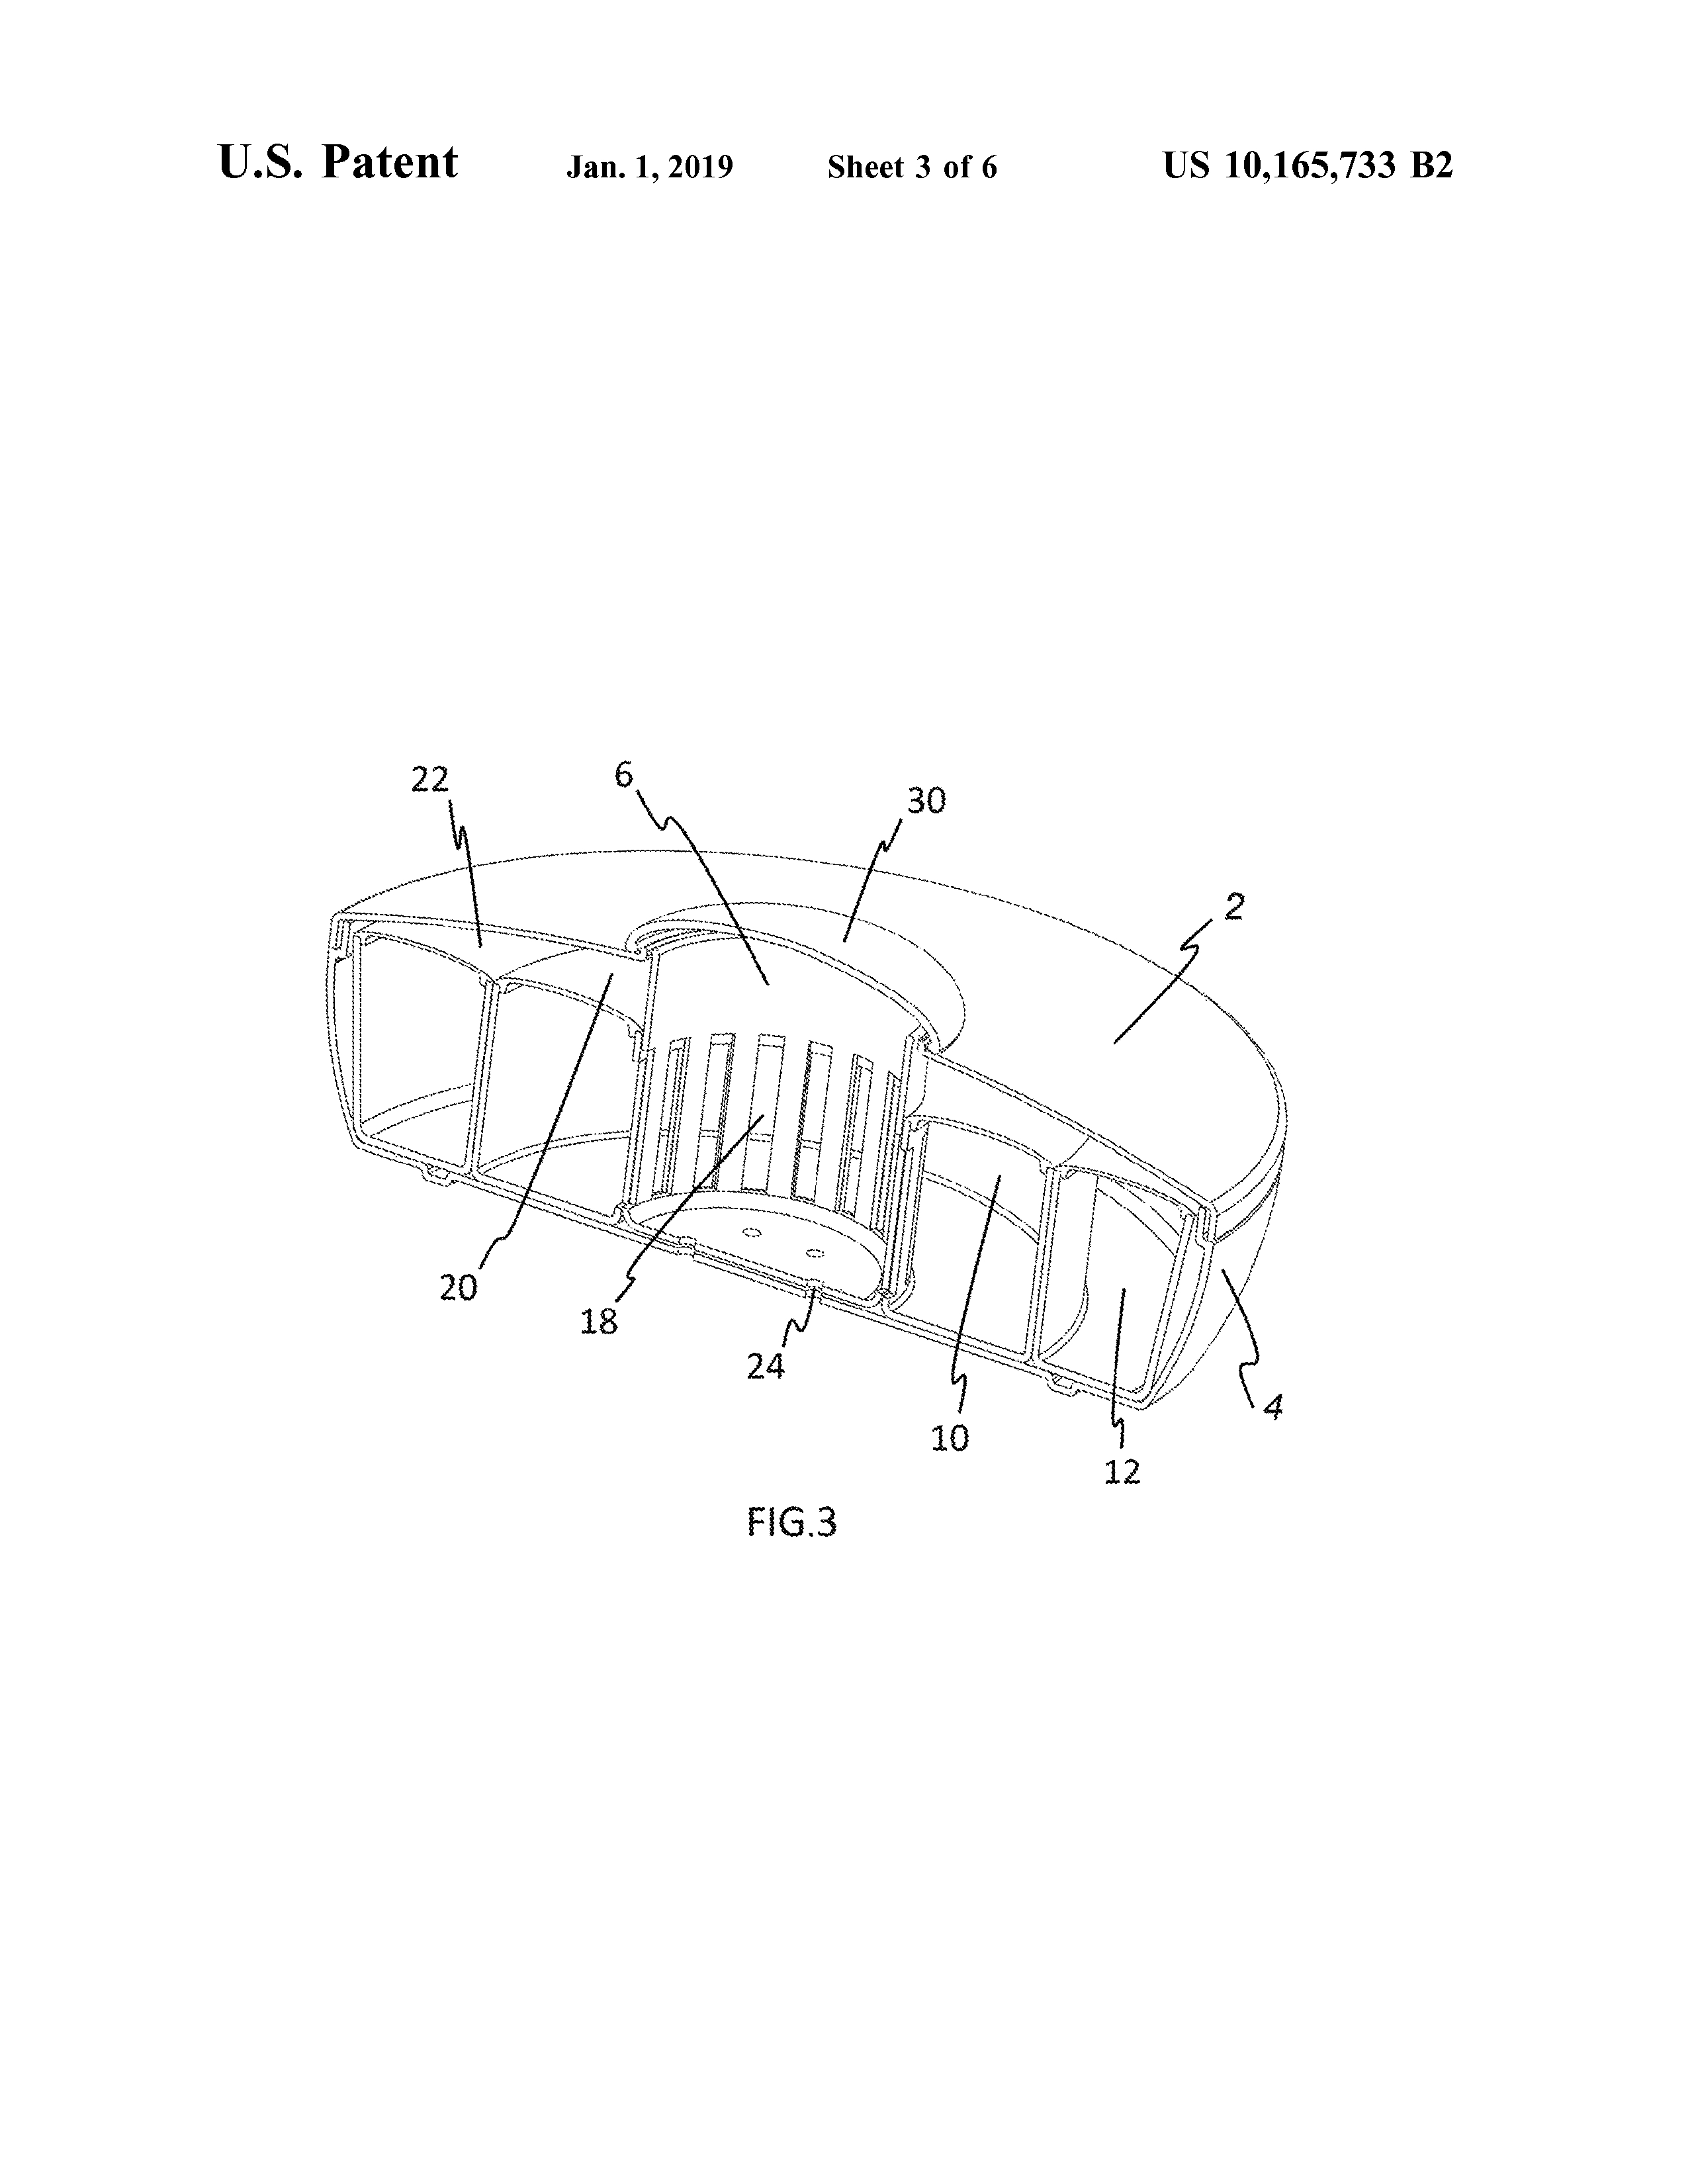patent image: (290, 679, 1406, 1637)
